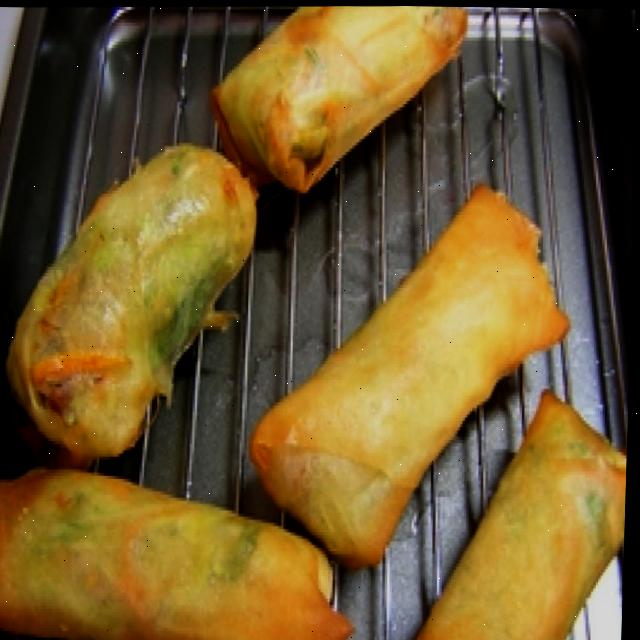鸡蛋料理: (218, 157, 594, 604)
